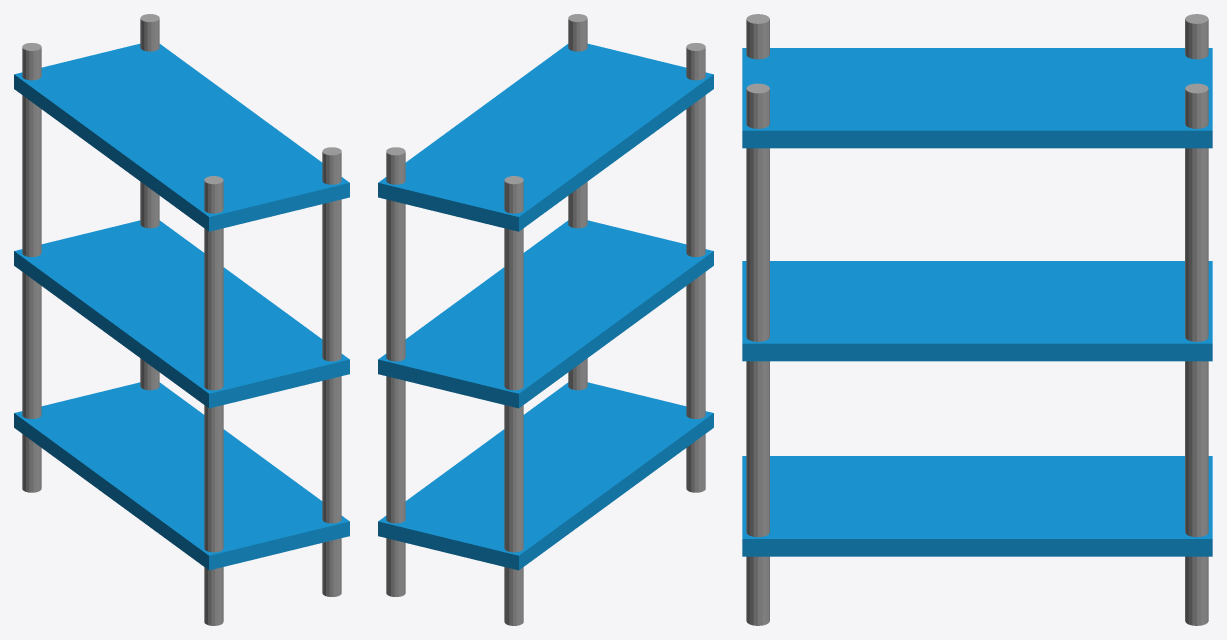
The model's file is StockRack_lod_1.fbx.
3 renders of one model, left to right at view 1: azimuth 30°, elevation 25°; view 2: azimuth 150°, elevation 25°; view 3: azimuth 270°, elevation 25°, orthographic. The views are drawn at different scales.
Visible parts, largest first — view 1: StoreRack_lod_1; view 2: StoreRack_lod_1; view 3: StoreRack_lod_1.
Part boxes in pixels (x1,y1,x2,y2): StoreRack_lod_1: (14, 14, 349, 625); StoreRack_lod_1: (378, 14, 713, 625); StoreRack_lod_1: (742, 14, 1212, 625).
Size of the model in its own units: 100 by 300 by 240.
